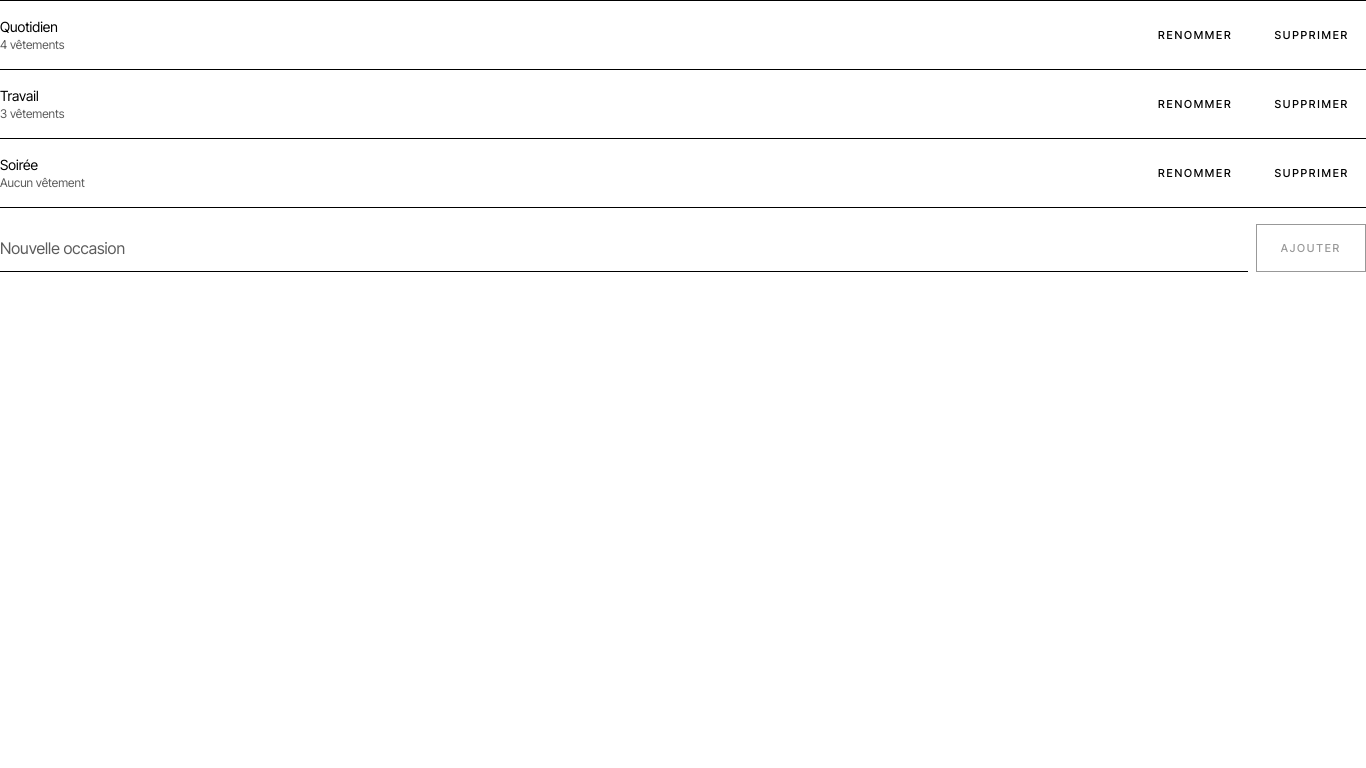
Scenario: OccasionsManager › shows a refused deletion inside the dialog
Click the button with aria-label "Supprimer Soirée": point(1312, 173) [1257,151,1365,195]
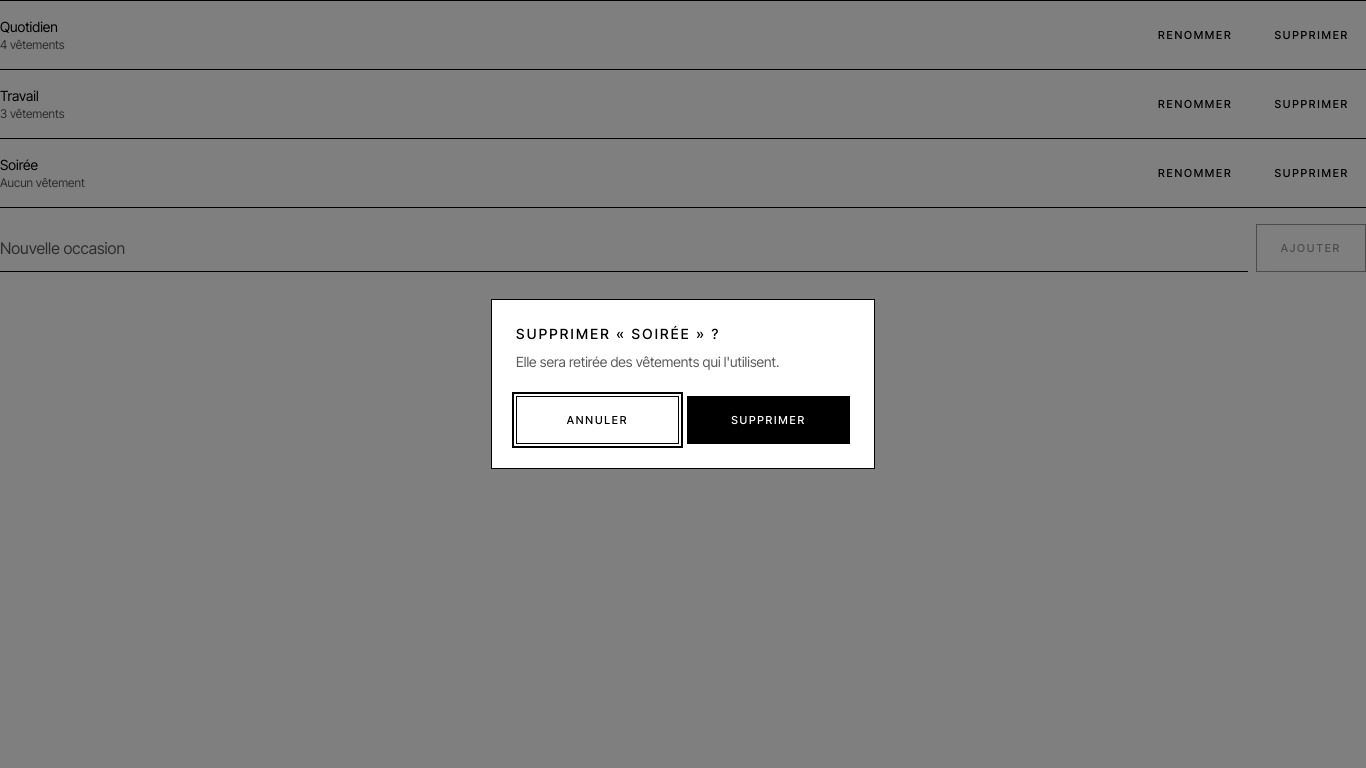
Click the button "Supprimer": point(768, 420) [687,396,850,444]
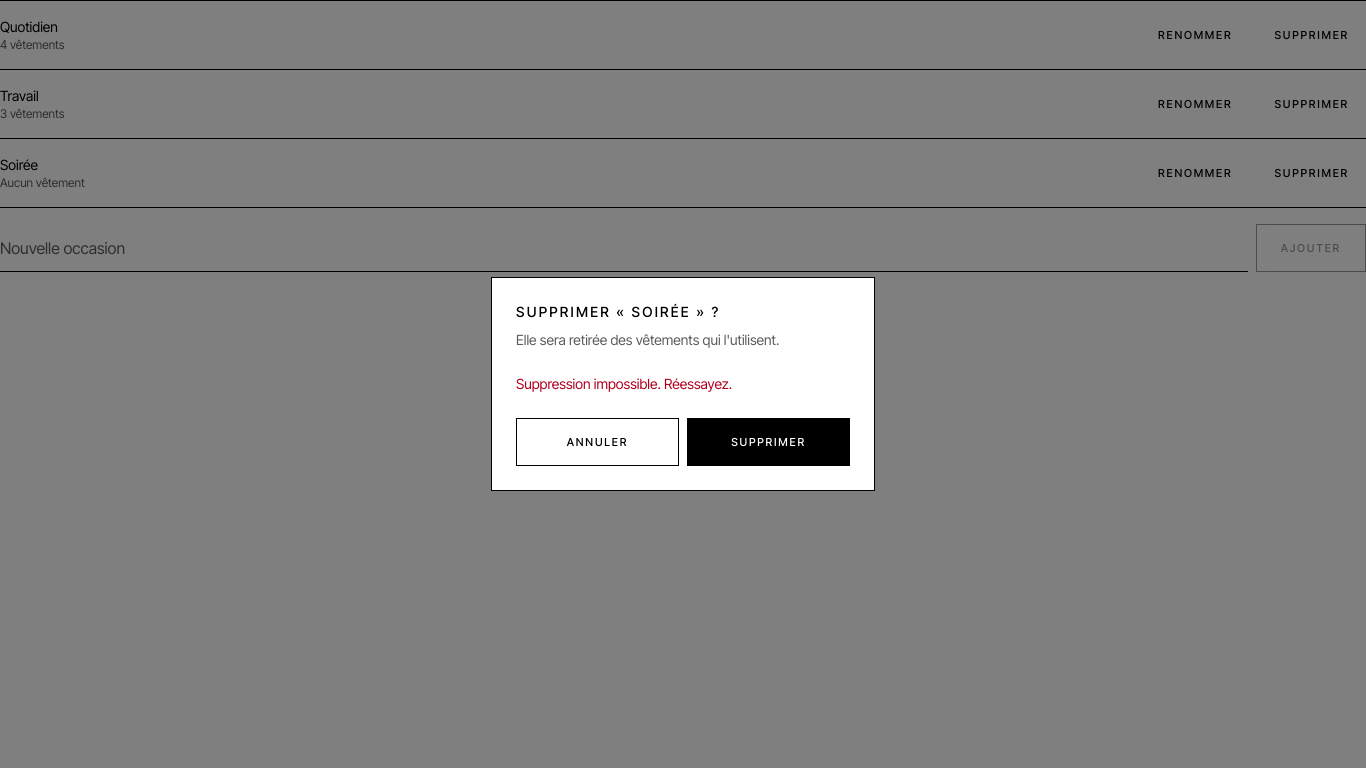
Expected: the message shows "Suppression impossible", [516,375,732,392]
